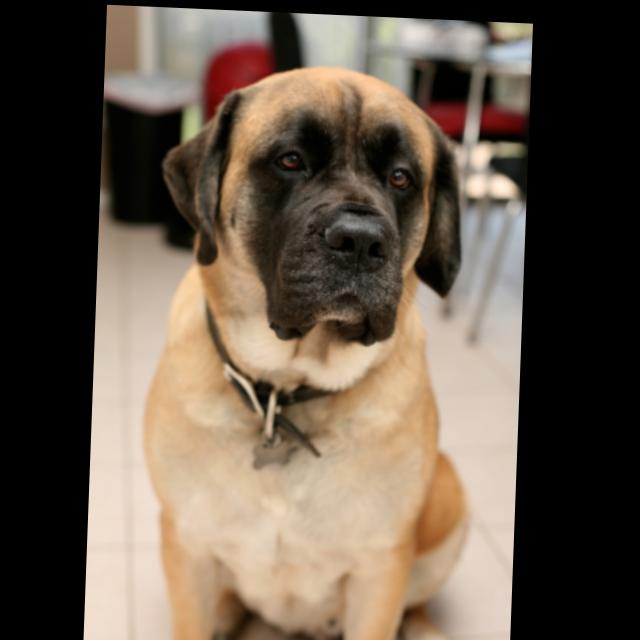mastiff: (139, 56, 489, 640)
